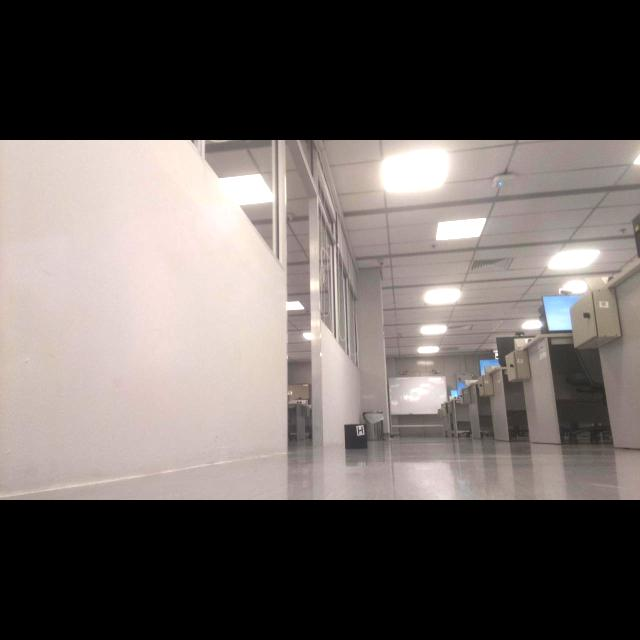H: (358, 426, 363, 434)
